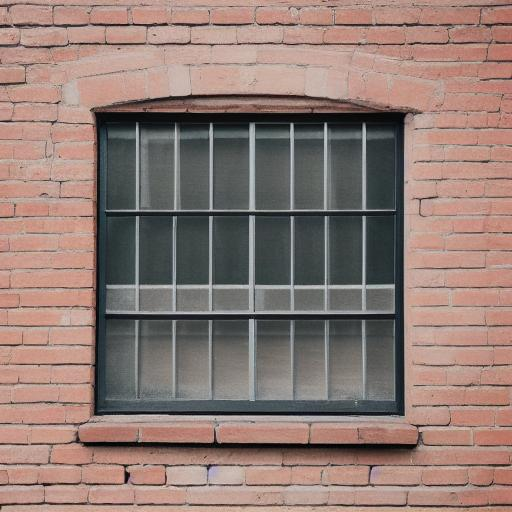Window: (75, 93, 420, 448)
